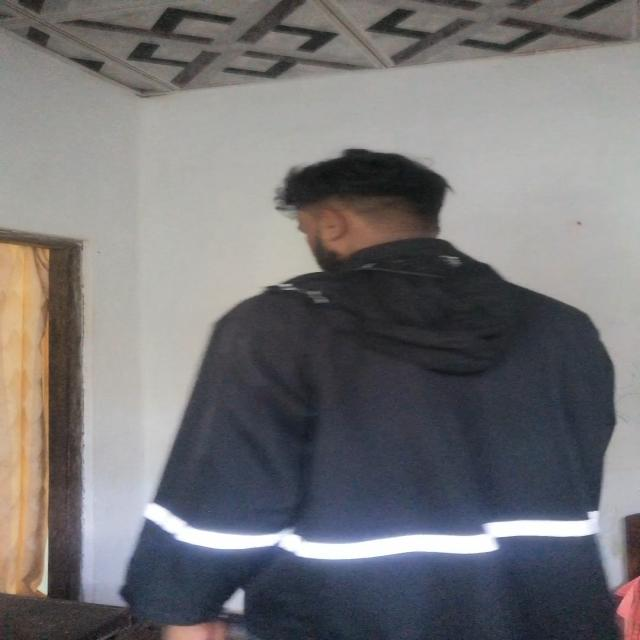Jacket_Wearer: (144, 240, 640, 618)
